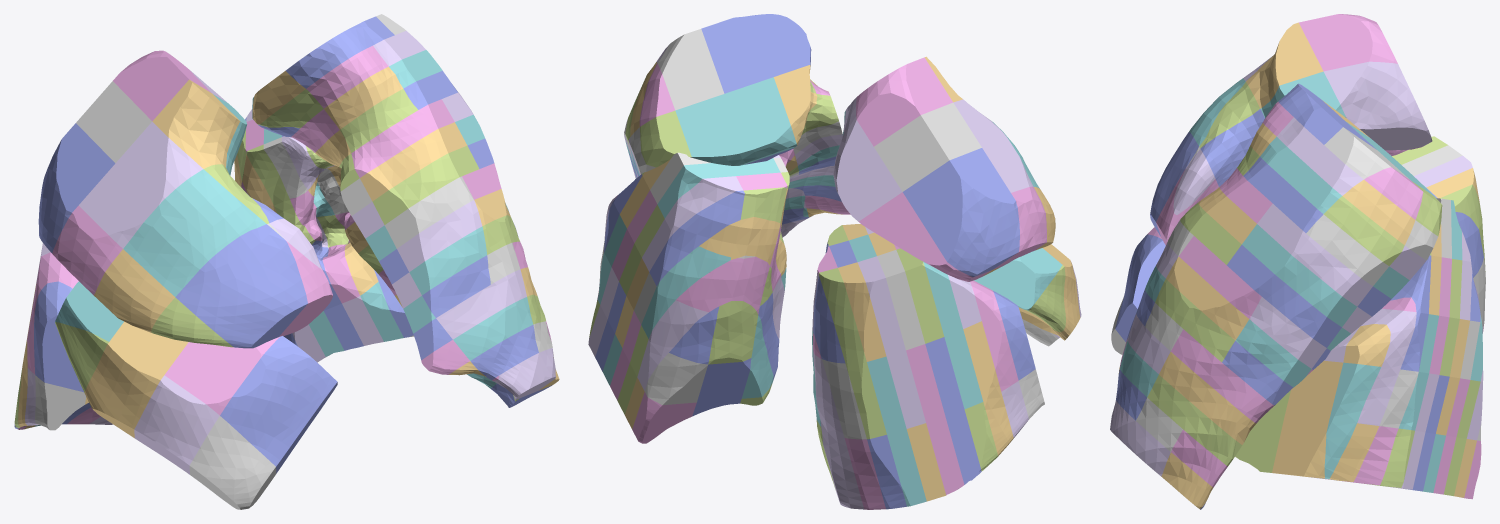
File: lung-male-small.glb
3 renders of one model, left to right at view 1: azimuth 30°, elevation 25°; view 2: azimuth 150°, elevation 25°; view 3: azimuth 270°, elevation 25°, orthographic. The views are drawn at different scales.
Parts seen in each view (by area): view 1: RUL-4A2, RUL-4A3, RML-1A3, RUL-3A3, RML-2A3, RUL-2A4, RML-1A2, RML-3A3, RUL-3A2, RML-1A1, RUL-3A1, RUL-2A3 (+68 smaller); view 2: RUL-1A2, RUL-1A3, RUL-1A1, RUL-1A4, LUL-1B2, LUL-1A2, LUL-1A3, LUL-1B3, RUL-1B3, RML-4A2, LUL-1A1, LLL-1A4 (+71 smaller); view 3: RUL-1B4, RUL-1A4, RUL-2A4, LLL-11B5, LUL-5A4, LUL-4A4, LUL-6A4, LLL-11B4, LUL-3A4, LUL-7A4, LUL-8A4, LUL-9A4 (+105 smaller).
Part boxes in pixels (x1,y1,x2,y2): RUL-4A2: [175, 256, 292, 348]; RUL-4A3: [214, 224, 307, 320]; RML-1A3: [189, 416, 276, 509]; RUL-3A3: [158, 169, 266, 255]; RML-2A3: [134, 375, 219, 474]; RUL-2A4: [152, 79, 240, 168]; RML-1A2: [220, 372, 306, 473]; RML-3A3: [84, 342, 164, 437]; RUL-3A2: [123, 206, 213, 296]; RML-1A1: [251, 336, 337, 428]; RUL-3A1: [94, 249, 174, 332]; RUL-2A3: [115, 121, 202, 205]; RUL-1A2: [903, 148, 1010, 236]; RUL-1A3: [874, 103, 981, 191]; RUL-1A1: [931, 193, 1019, 277]; RUL-1A4: [856, 57, 952, 146]; LUL-1B2: [724, 77, 796, 163]; LUL-1A2: [701, 15, 773, 93]; LUL-1A3: [657, 29, 724, 110]; LUL-1B3: [675, 94, 747, 165]; RUL-1B3: [833, 147, 902, 221]; RML-4A2: [983, 248, 1062, 310]; LUL-1A1: [752, 14, 811, 76]; LLL-1A4: [644, 353, 707, 405]; RUL-1B4: [1323, 61, 1420, 136]; RUL-1A4: [1299, 14, 1397, 71]; RUL-2A4: [1246, 22, 1323, 108]; LLL-11B5: [1272, 415, 1329, 478]; LUL-5A4: [1290, 234, 1372, 306]; LUL-4A4: [1306, 214, 1388, 285]; LUL-6A4: [1275, 254, 1356, 326]; LLL-11B4: [1285, 360, 1343, 419]; LUL-3A4: [1323, 196, 1404, 265]; LUL-7A4: [1262, 274, 1341, 347]; LUL-8A4: [1249, 297, 1326, 368]; LUL-9A4: [1235, 319, 1311, 387].
Size of the model in its own units: 0.2571 by 0.2252 by 0.1894.
